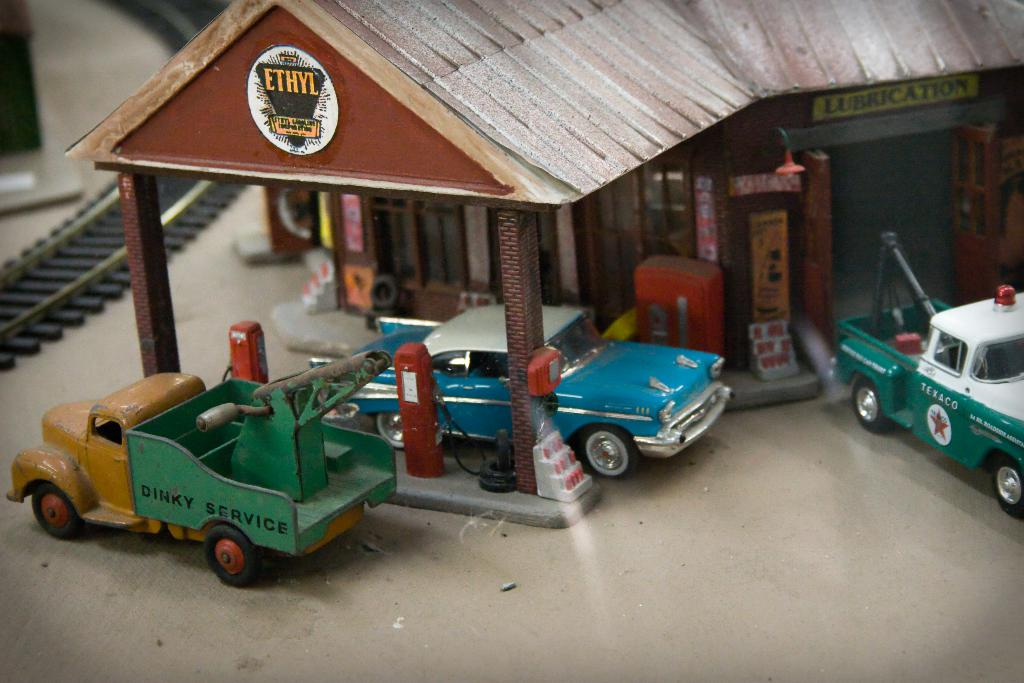mobil: (383, 310, 738, 493)
